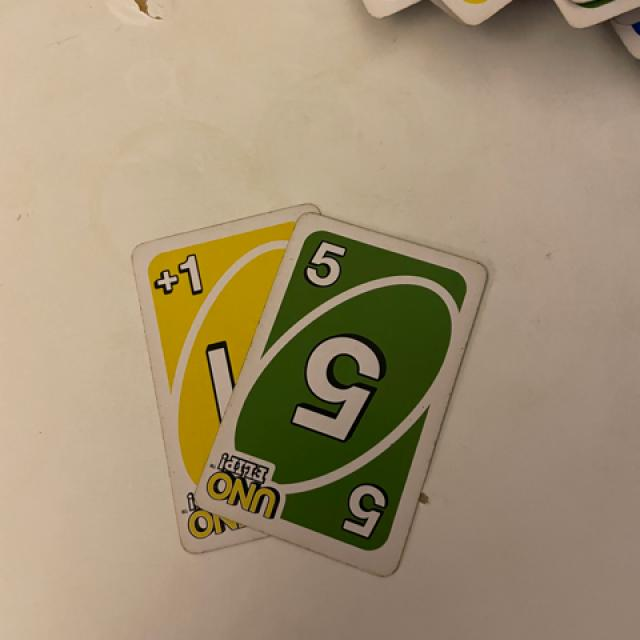lgreen-5: (298, 235, 352, 300)
